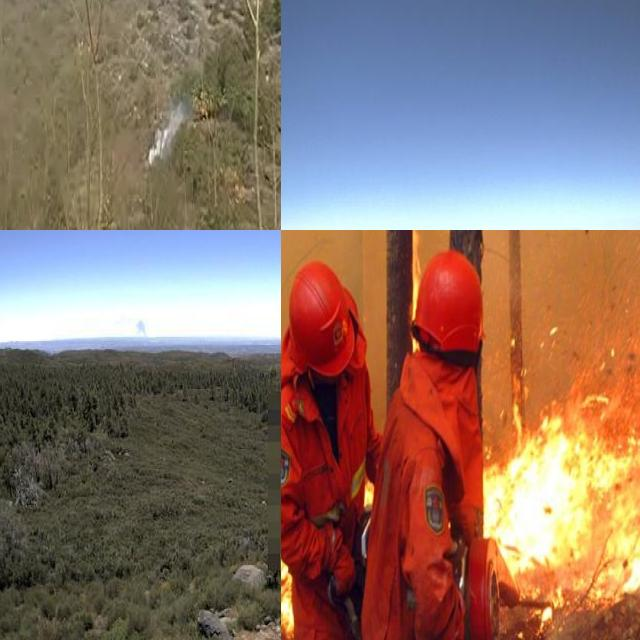fire: (481, 321, 640, 603)
smoke: (146, 99, 189, 163), (130, 313, 153, 346)
